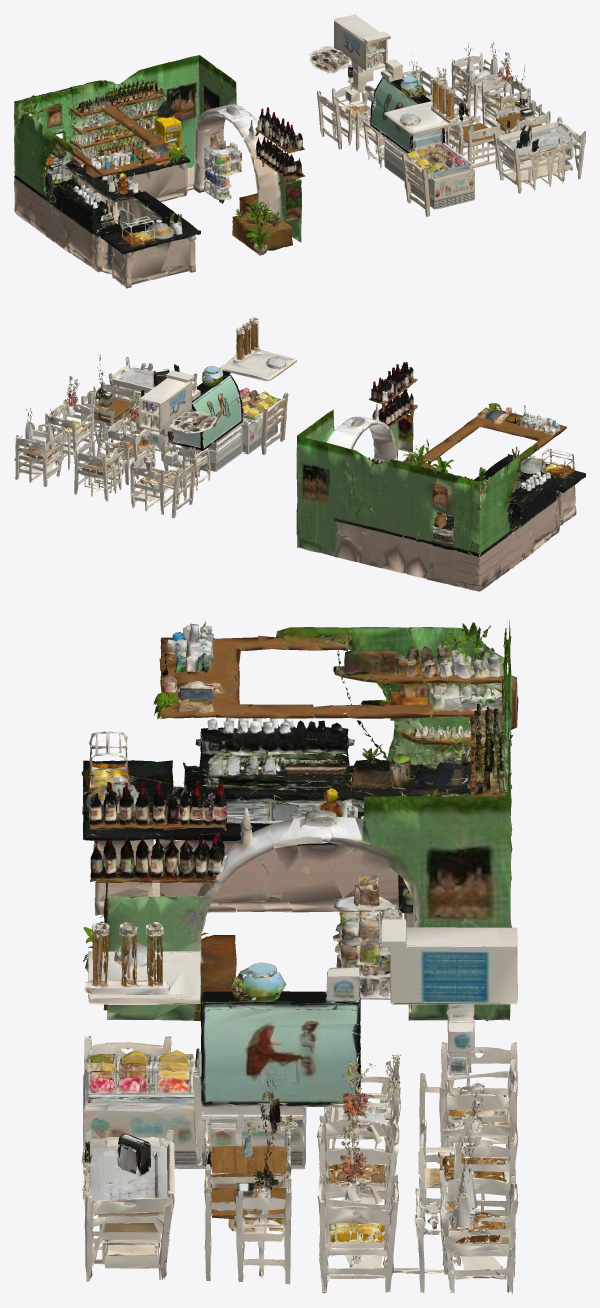
File: port_royal_interior.glb
3 renders of one model, top to bottom at view 1: azimuth 30°, elevation 25°; view 2: azimuth 150°, elevation 25°; view 3: azimuth 270°, elevation 25°, orthographic. The views are drawn at different scales.
Parts seen in each view (by area): view 1: bar_int, dining; view 2: bar_int, dining; view 3: bar_int, dining.
Part boxes in pixels (x1,y1,x2,y2): bar_int: [14, 55, 305, 288]; dining: [309, 14, 585, 216]; bar_int: [296, 362, 585, 591]; dining: [14, 317, 296, 518]; bar_int: [81, 620, 518, 1021]; dining: [81, 919, 518, 1293].
Bounding box in the file's own units: 19.85 × 4.83 × 8.
2 materials, 2 textured.
